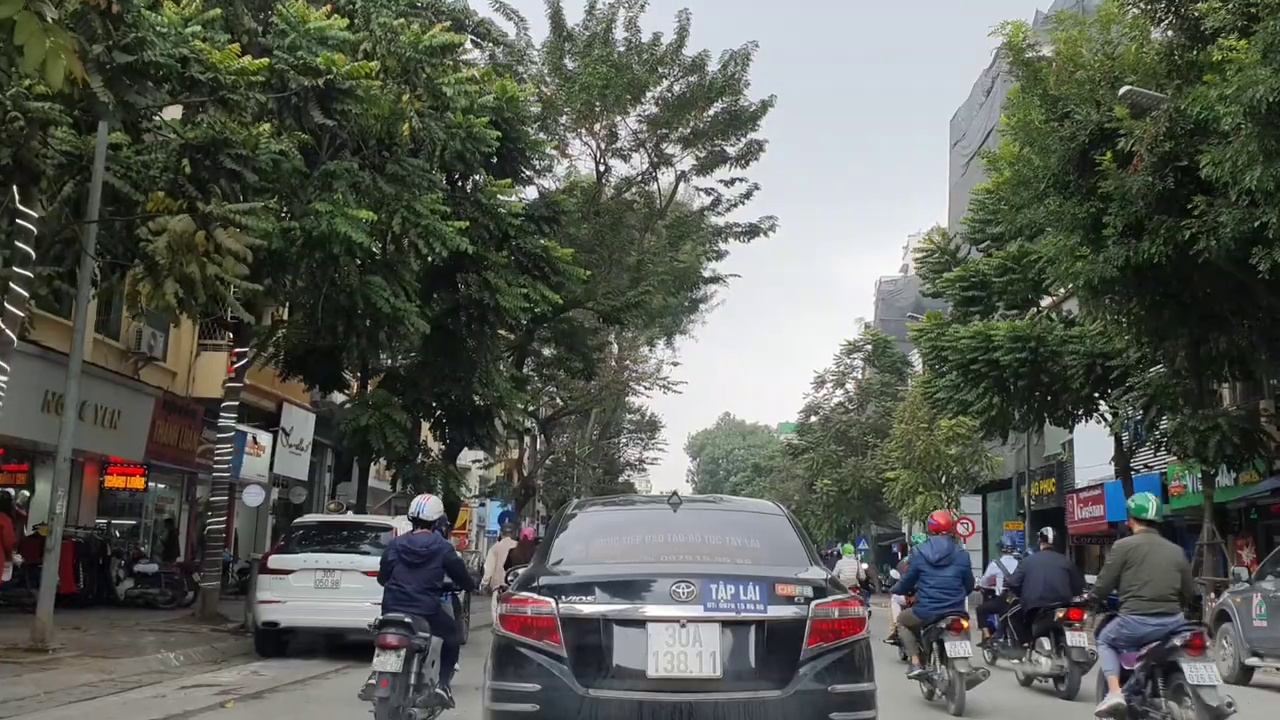person: (1180, 660, 1226, 684), (942, 637, 975, 658), (374, 646, 403, 669), (1063, 628, 1090, 651)
